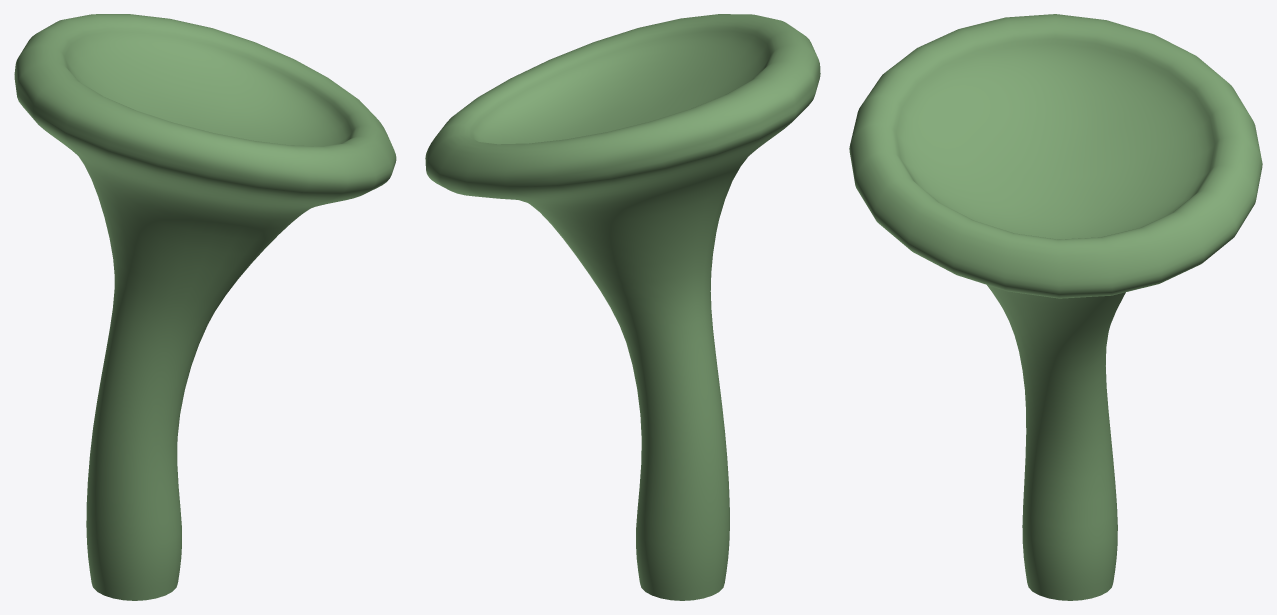
The model's file is Hongo_2.fbx.
3 views of the same model, side by side, from view 1: azimuth 30°, elevation 25°; view 2: azimuth 150°, elevation 25°; view 3: azimuth 270°, elevation 25° (orthographic).
Parts seen in each view (by area): view 1: Hongo_2; view 2: Hongo_2; view 3: Hongo_2.
Part boxes in pixels (x1,y1,x2,y2): Hongo_2: (14, 14, 396, 600); Hongo_2: (425, 14, 820, 600); Hongo_2: (849, 14, 1262, 600).
Size of the model in its own units: 0.9181 by 1.37 by 0.9726.
